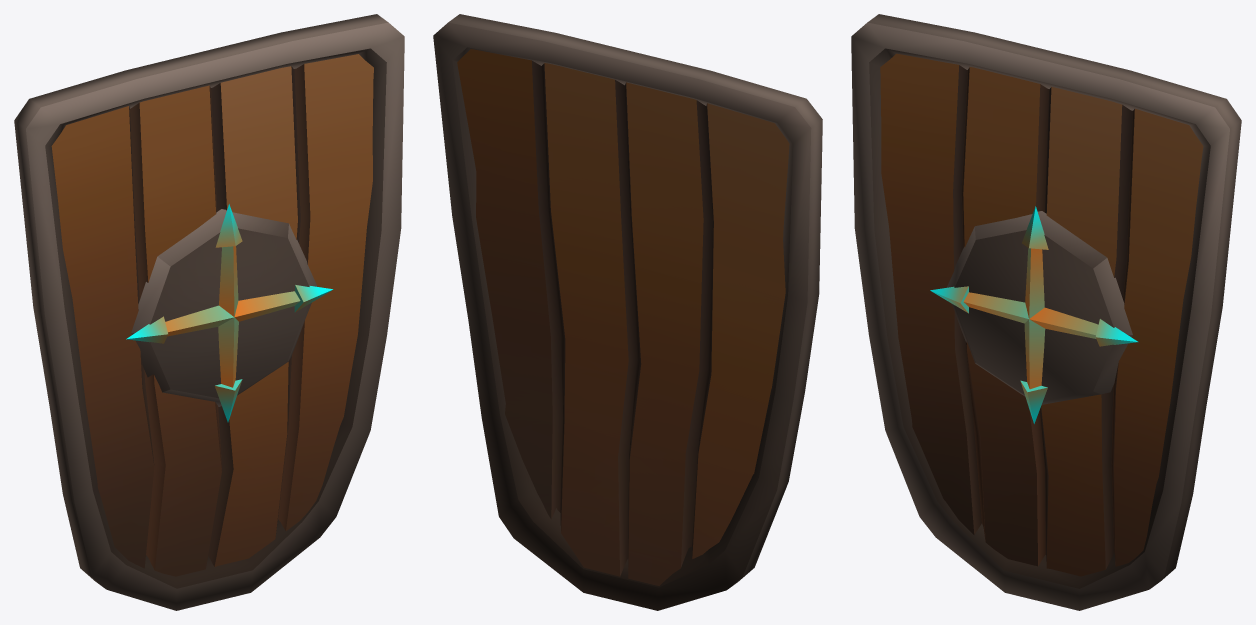
Rendered from Shield1h_13.fbx.
3 renders of one model, left to right at view 1: azimuth 30°, elevation 25°; view 2: azimuth 150°, elevation 25°; view 3: azimuth 330°, elevation 25°, orthographic.
Parts seen in each view (by area): view 1: Shield1h_13; view 2: Shield1h_13; view 3: Shield1h_13.
Part boxes in pixels (bbox=[...]): Shield1h_13: bbox=[14, 14, 404, 610]; Shield1h_13: bbox=[433, 14, 822, 610]; Shield1h_13: bbox=[851, 14, 1241, 610].
Size of the model in its own units: 51.56 by 70.52 by 7.15.
